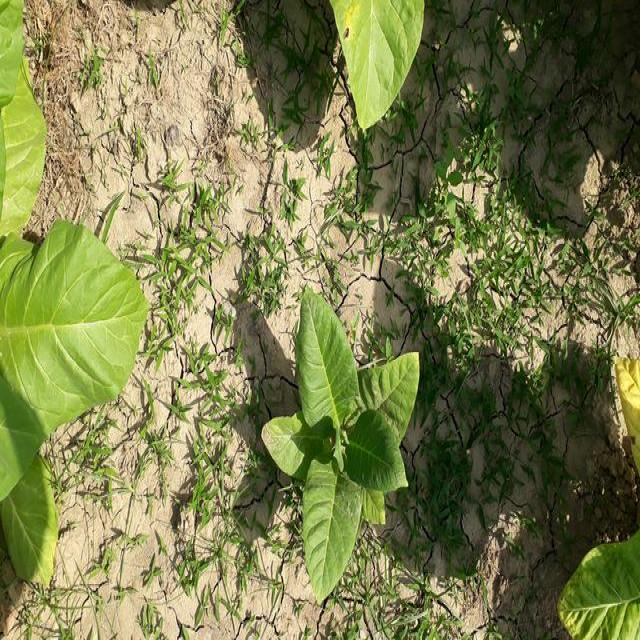crop: (0, 19, 143, 571), (254, 294, 420, 598), (329, 0, 430, 130), (562, 538, 640, 636), (619, 358, 640, 467)
